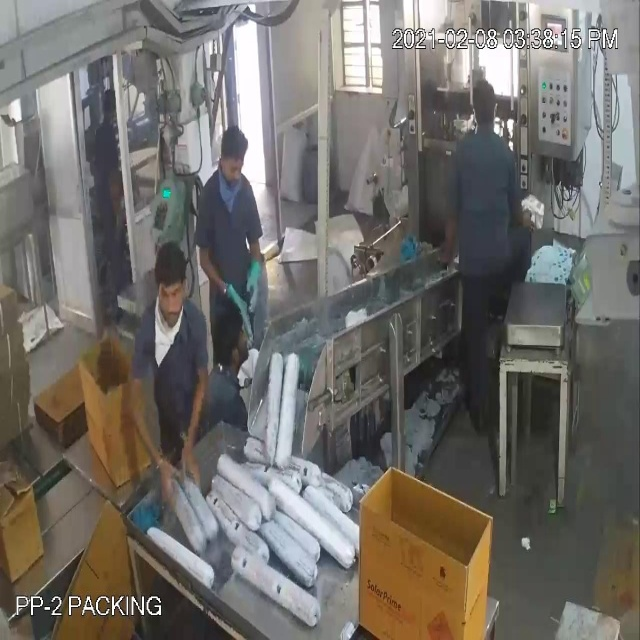Guantes: (246, 242, 270, 313)
Sin_guantes: (123, 380, 184, 508), (177, 340, 213, 488)
